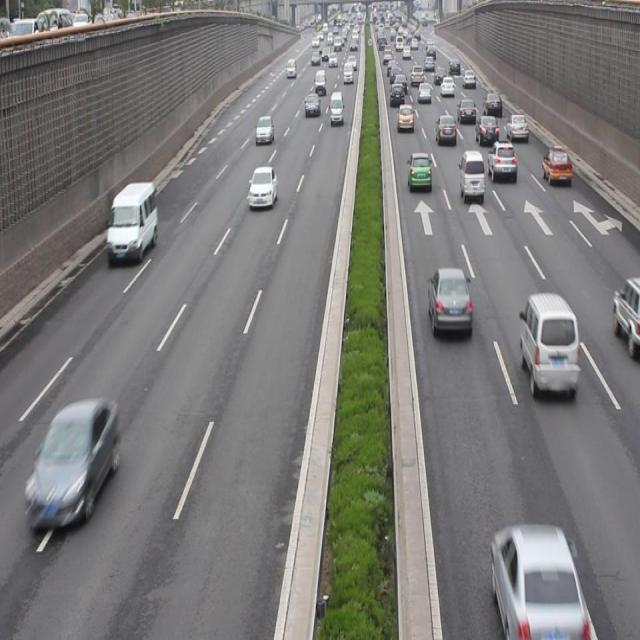car: (25, 402, 119, 533), (491, 522, 584, 632), (427, 268, 471, 338), (612, 276, 640, 340), (248, 166, 276, 212), (485, 140, 514, 182), (540, 145, 570, 183), (406, 151, 430, 194), (475, 113, 497, 148), (434, 115, 456, 146), (505, 113, 527, 144), (254, 114, 274, 143), (396, 102, 414, 134)
truck: (518, 295, 578, 398), (107, 182, 158, 266), (458, 149, 485, 204)
